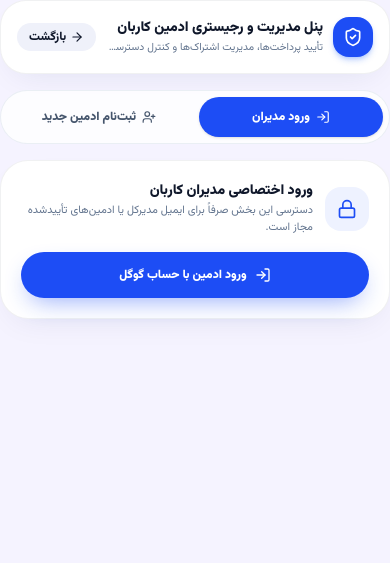
Test: AdminRegistryView, CustomerAuthModal & Payment Approvals › امکان جابه‌جایی بین فرم ورود مدیران و ثبت‌نام ادمین جدید و ارسال درخواست ادمین را فراهم می‌کند
This screenshot has width=390, height=563.
Later steps or results of the test are not shown.
Check: the element with test id "admin-login-panel" is shown, box [0, 160, 389, 319]
Click the button with test id "admin-flow-register-tab". click: [99, 117]
box: [7, 97, 191, 137]
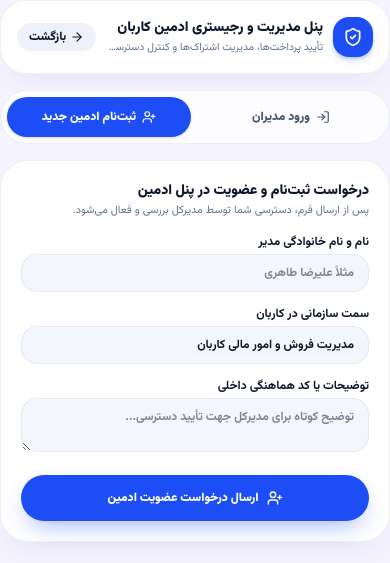
Check: the form with test id "admin-register-form" is shown
